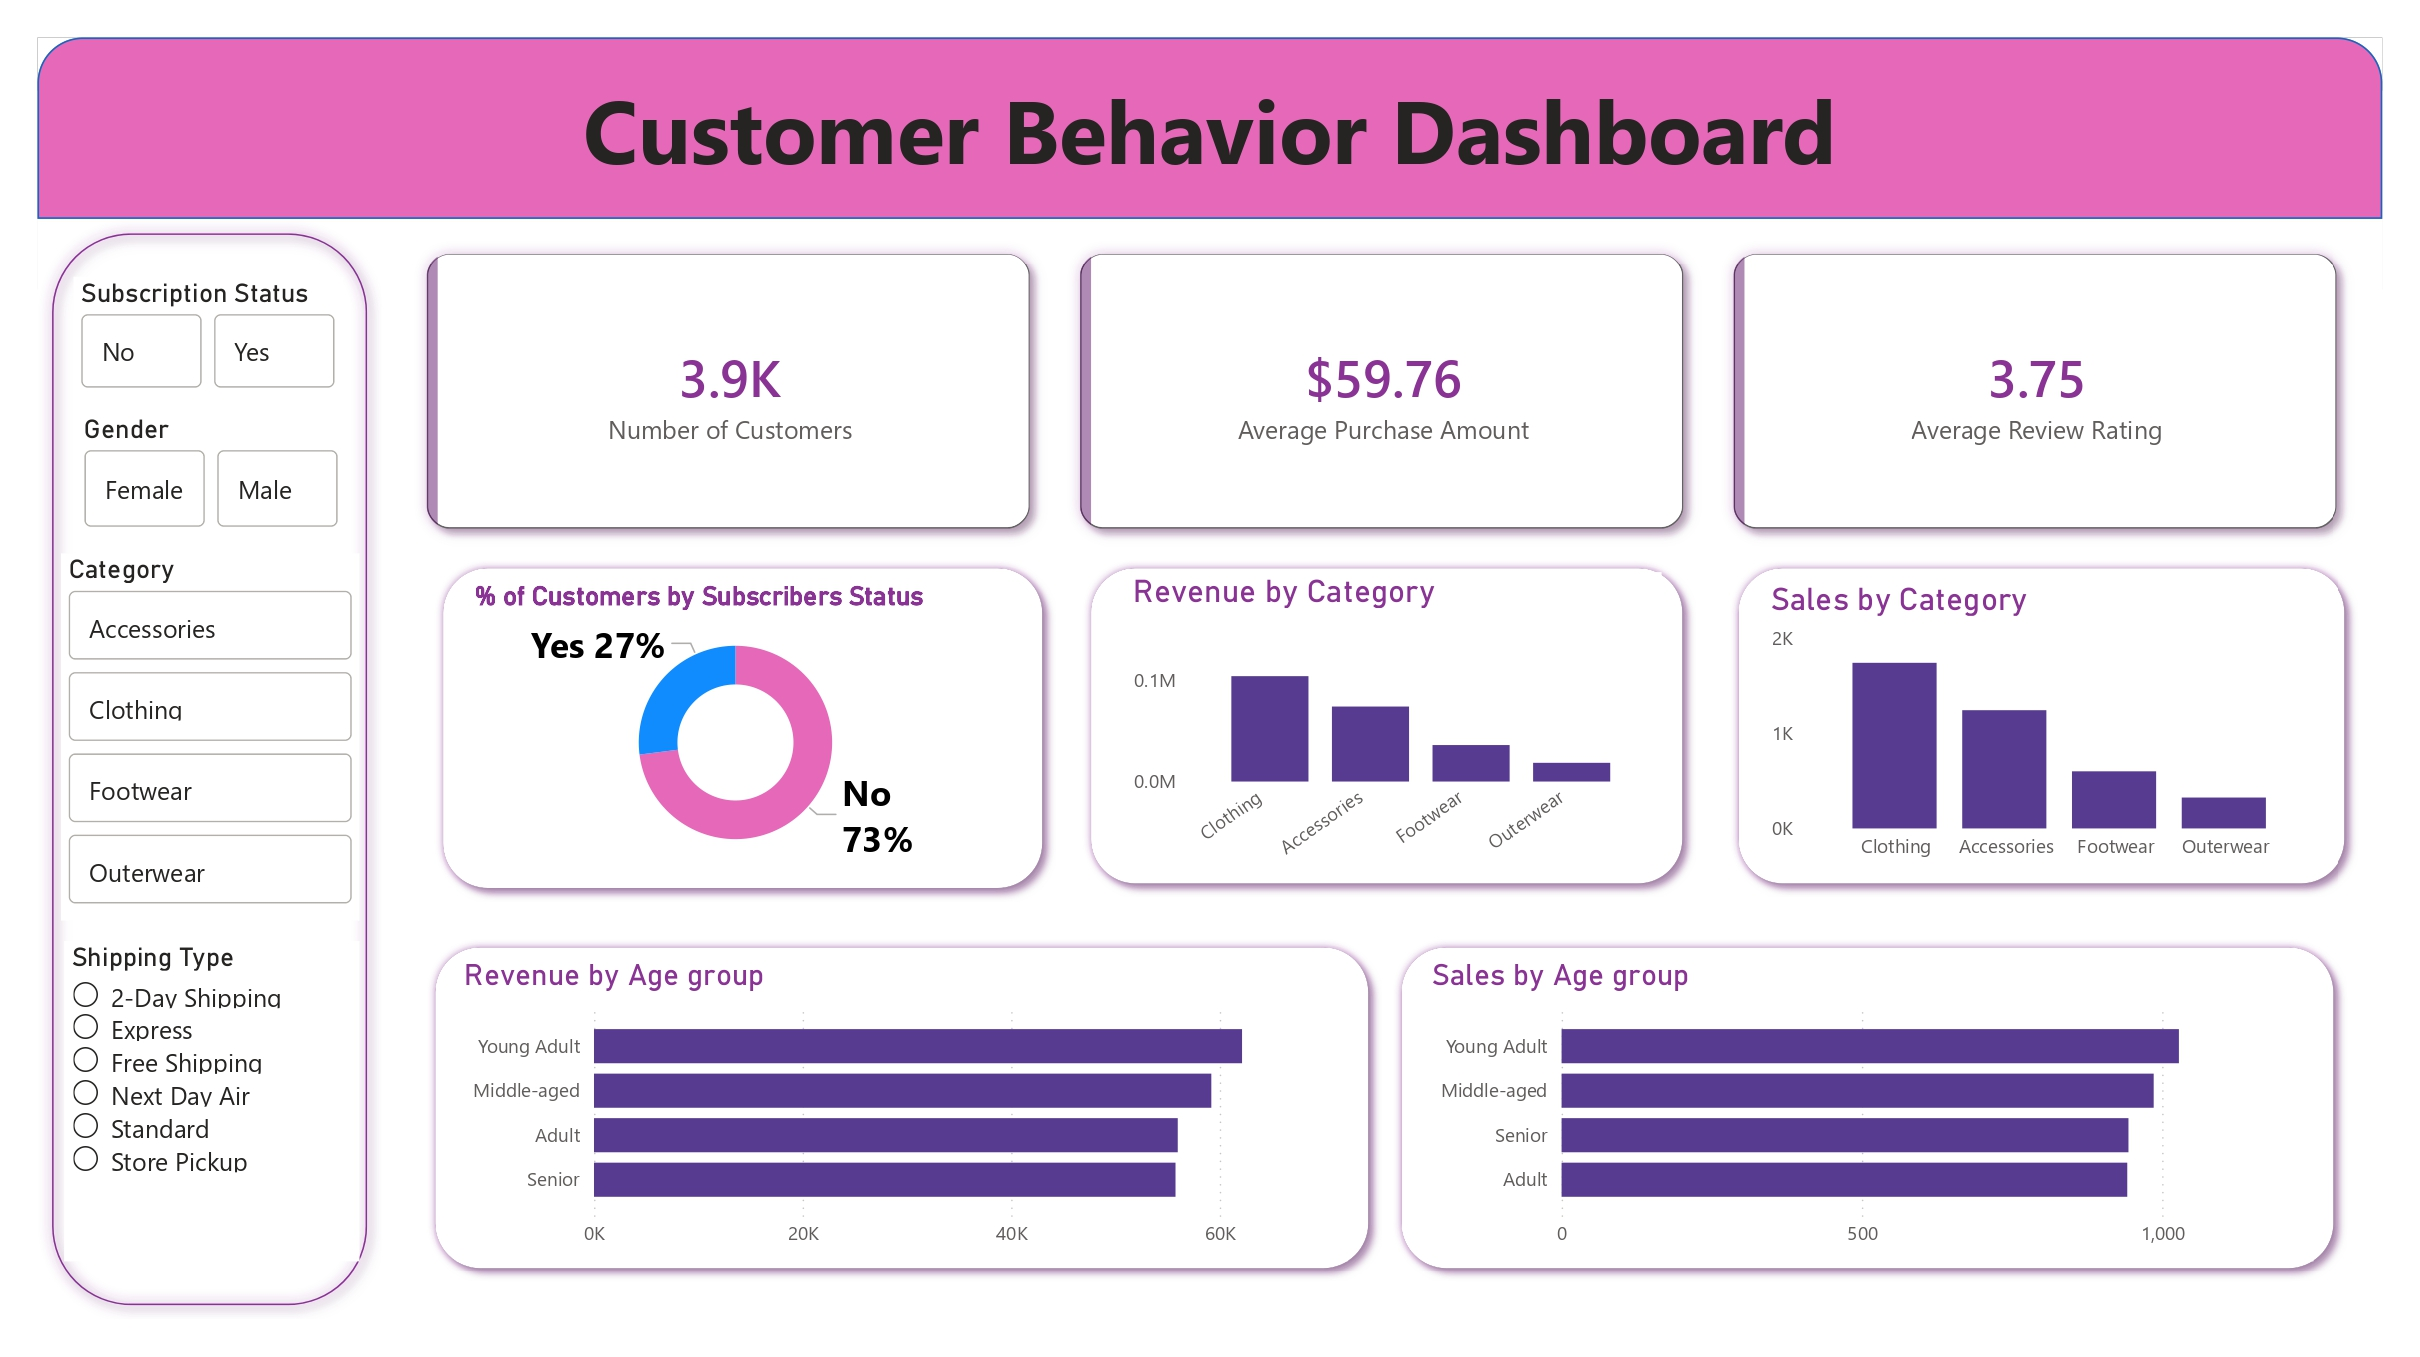

The page's visual inventory and layout, read from the dashboard file:
{"tool":"powerbi","page":{"name":"Page 1","canvas":[1500,820],"ordinal":0},"visuals":[{"type":"cardVisual","fields":{"Data":["customer_behavior customer.Number of Customers","customer_behavior customer.Average Purchase Amount","customer_behavior customer.Average Review Rating"]},"box":[219.6,108.9,1280.4,234.6],"z":0},{"type":"shape","box":[0,0,1500,116.1],"z":1000},{"type":"textbox","box":[0,15.7,1500,100.4],"z":2000},{"type":"shape","box":[249.7,330.2,402.2,222.9],"z":3000},{"type":"shape","box":[1079.3,330.2,405.6,219.6],"z":4000},{"type":"shape","box":[665.4,330.2,395.5,219.6],"z":5000},{"type":"clusteredColumnChart","title":"Revenue by Category","fields":{"Y":["Sum(customer_behavior customer.purchase_amount)"],"Category":["customer_behavior customer.category"]},"box":[695.5,341.9,343.6,194.4],"z":6000},{"type":"donutChart","title":"% of Customers by Subscribers Status","fields":{"Category":["customer_behavior customer.subscription_status"],"Y":["CountNonNull(customer_behavior customer.customer_id)"]},"box":[274.9,346.9,343.6,189.4],"z":7000},{"type":"clusteredColumnChart","title":"Sales by Category","fields":{"Category":["customer_behavior customer.category"],"Y":["CountNonNull(customer_behavior customer.customer_id)"]},"box":[1104.5,346.9,357,189.4],"z":8000},{"type":"shape","box":[0,115.6,219.6,703.9],"z":9000},{"type":"advancedSlicerVisual","fields":{"Values":["customer_behavior customer.subscription_status"]},"box":[23.5,152.5,172.6,78.8],"z":10000},{"type":"advancedSlicerVisual","fields":{"Values":["customer_behavior customer.gender"]},"box":[25.1,239.7,172.6,80.4],"z":11000},{"type":"advancedSlicerVisual","fields":{"Values":["customer_behavior customer.category"]},"box":[15.1,330.2,191.1,234.6],"z":12000},{"type":"listSlicer","fields":{"Values":["customer_behavior customer.shipping_type"]},"box":[16.8,578.2,189.4,204.5],"z":13000},{"type":"shape","box":[244.7,573.2,615.1,222.9],"z":14000},{"type":"clusteredBarChart","title":"Revenue by Age group","fields":{"Y":["Sum(customer_behavior customer.purchase_amount)"],"Category":["customer_behavior customer.age_group"]},"box":[268.2,588.3,569.8,194.4],"z":15000},{"type":"shape","box":[863.1,573.2,615.1,222.9],"z":15001},{"type":"clusteredBarChart","title":"Sales by Age group","fields":{"Y":["CountNonNull(customer_behavior customer.customer_id)"],"Category":["customer_behavior customer.age_group"]},"box":[886.6,588.3,569.8,194.4],"z":15002}]}

Visuals, with their boxes on the page's 1500x820 design canvas (x1, y1, x2, y2). These are canvas units, not pixel positions in the 2420x1357 screenshot, which may show the page scaled, cropped or inside an application window:
cardVisual - customer_behavior customer.Number of Customers x customer_behavior customer.Average Purchase Amount: l=220, t=109, r=1500, b=344
shape: l=0, t=0, r=1500, b=116
textbox: l=0, t=16, r=1500, b=116
shape: l=250, t=330, r=652, b=553
shape: l=1079, t=330, r=1485, b=550
shape: l=665, t=330, r=1061, b=550
"Revenue by Category" clusteredColumnChart: l=696, t=342, r=1039, b=536
"% of Customers by Subscribers Status" donutChart: l=275, t=347, r=618, b=536
"Sales by Category" clusteredColumnChart: l=1104, t=347, r=1462, b=536
shape: l=0, t=116, r=220, b=820
advancedSlicerVisual - customer_behavior customer.subscription_status: l=24, t=152, r=196, b=231
advancedSlicerVisual - customer_behavior customer.gender: l=25, t=240, r=198, b=320
advancedSlicerVisual - customer_behavior customer.category: l=15, t=330, r=206, b=565
listSlicer - customer_behavior customer.shipping_type: l=17, t=578, r=206, b=783
shape: l=245, t=573, r=860, b=796
"Revenue by Age group" clusteredBarChart: l=268, t=588, r=838, b=783
shape: l=863, t=573, r=1478, b=796
"Sales by Age group" clusteredBarChart: l=887, t=588, r=1456, b=783
